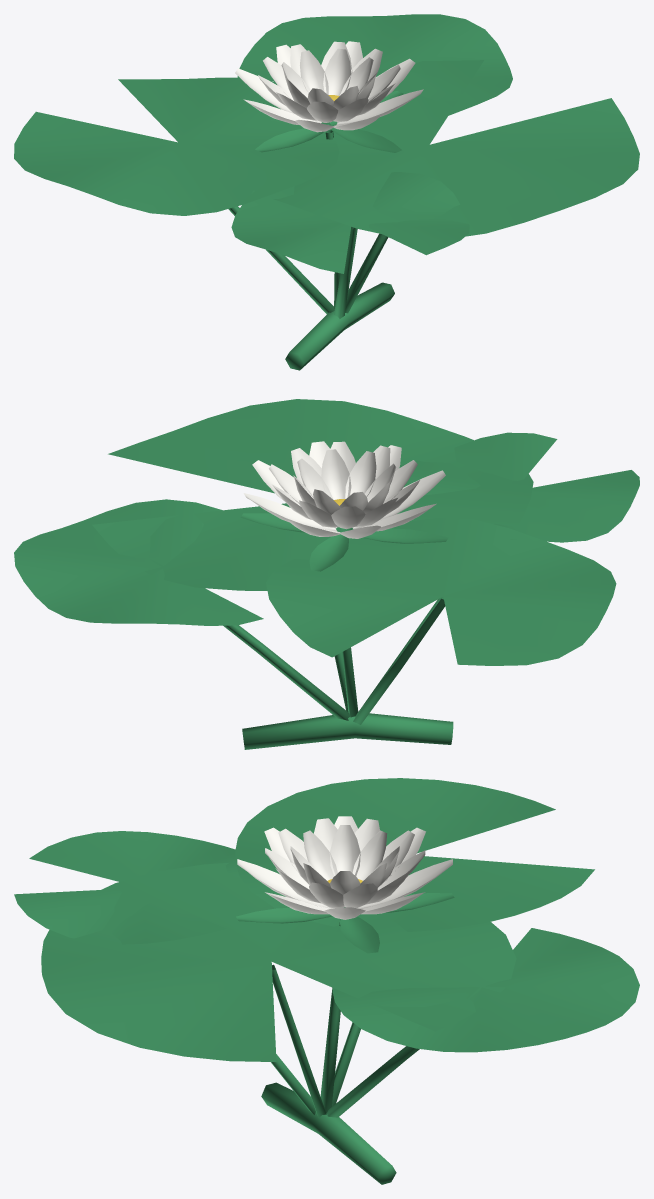
File: aquatic_water_lily.glb
The picture shows the model from 3 angles, top to bottom: view 1: azimuth 30°, elevation 25°; view 2: azimuth 150°, elevation 25°; view 3: azimuth 270°, elevation 25°; orthographic projection. The views are drawn at different scales.
Parts seen in each view (by area): view 1: Flora_Water_Lily; view 2: Flora_Water_Lily; view 3: Flora_Water_Lily.
Boxes of the visible parts, x1,y1,x2,y2 form: Flora_Water_Lily: [14, 14, 639, 370]; Flora_Water_Lily: [14, 399, 639, 749]; Flora_Water_Lily: [14, 778, 639, 1184].
Size of the model in its own units: 1.91 by 0.9296 by 1.79.
